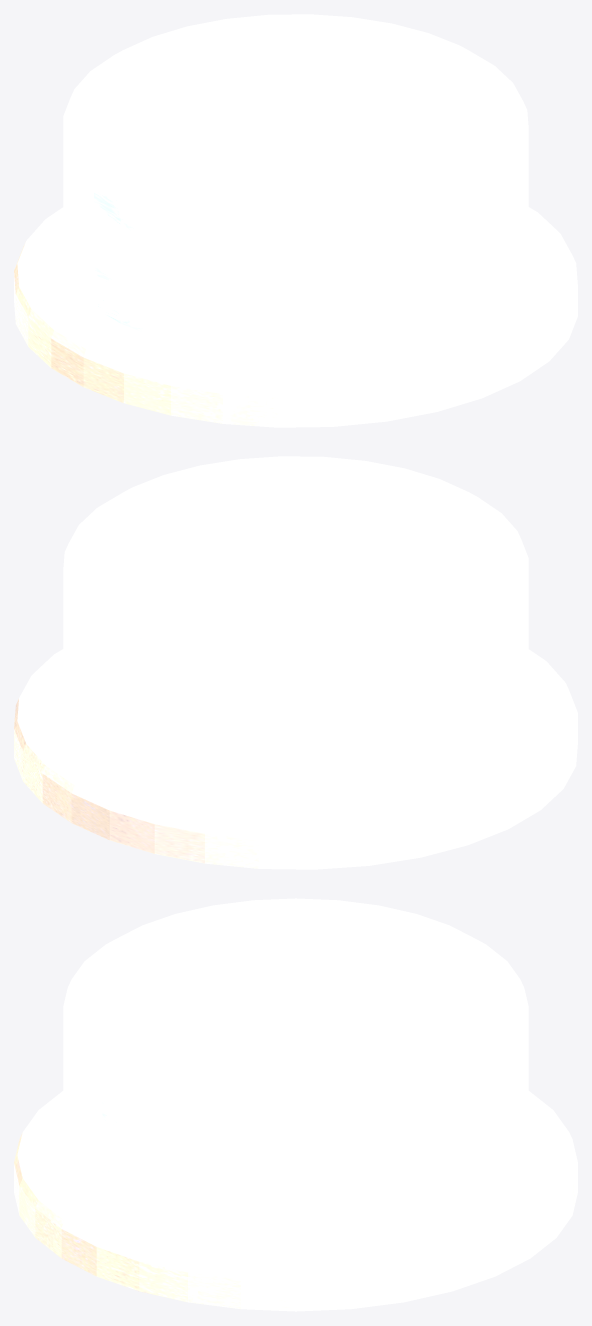
File: Button_Clear 1.fbx
The picture shows the model from 3 angles, top to bottom: view 1: azimuth 30°, elevation 25°; view 2: azimuth 150°, elevation 25°; view 3: azimuth 270°, elevation 25°; orthographic projection.
Visible parts, largest first — view 1: Button; view 2: Button; view 3: Button.
Part boxes in pixels (x1,y1,x2,y2): Button: [14, 14, 577, 427]; Button: [14, 456, 577, 869]; Button: [14, 898, 577, 1311].
Bounding box in the file's own units: 0.4008 × 0.4008 × 0.1678.
